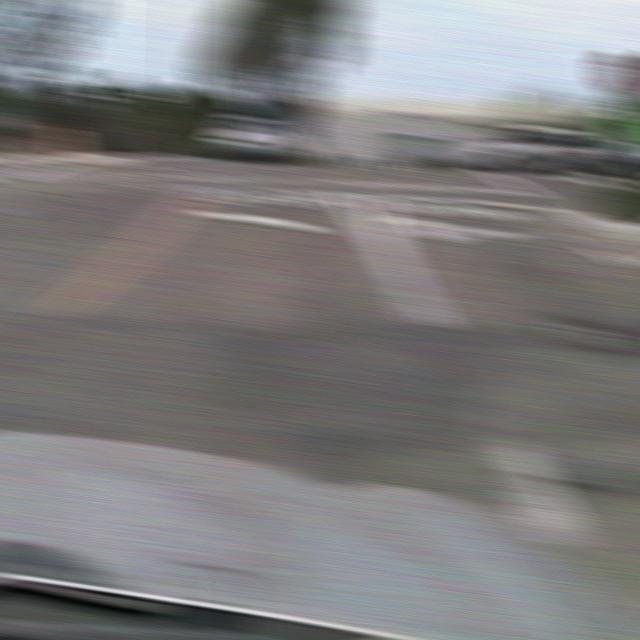stop_sign: (596, 49, 640, 98)
